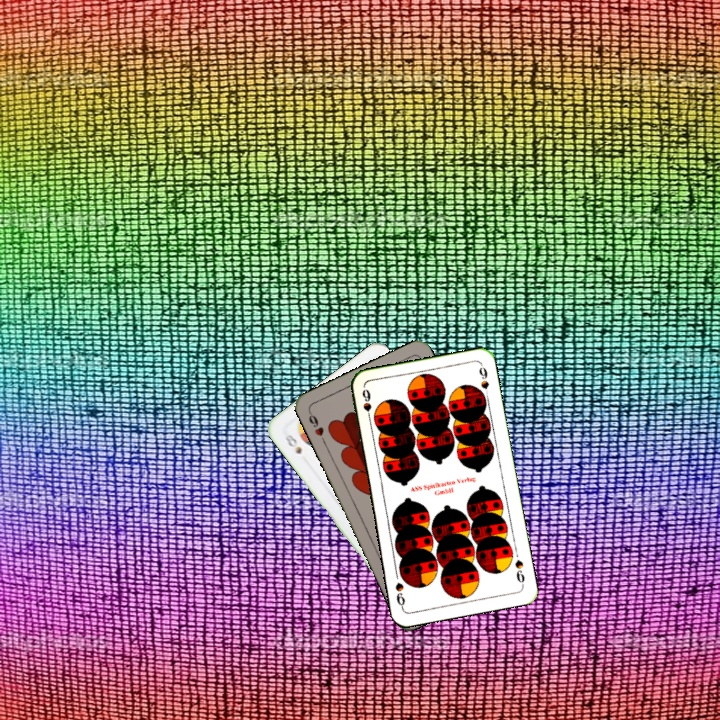H9: (305, 407, 328, 445)
S8: (279, 429, 304, 457)
S9: (358, 385, 374, 425), (511, 556, 527, 588)
